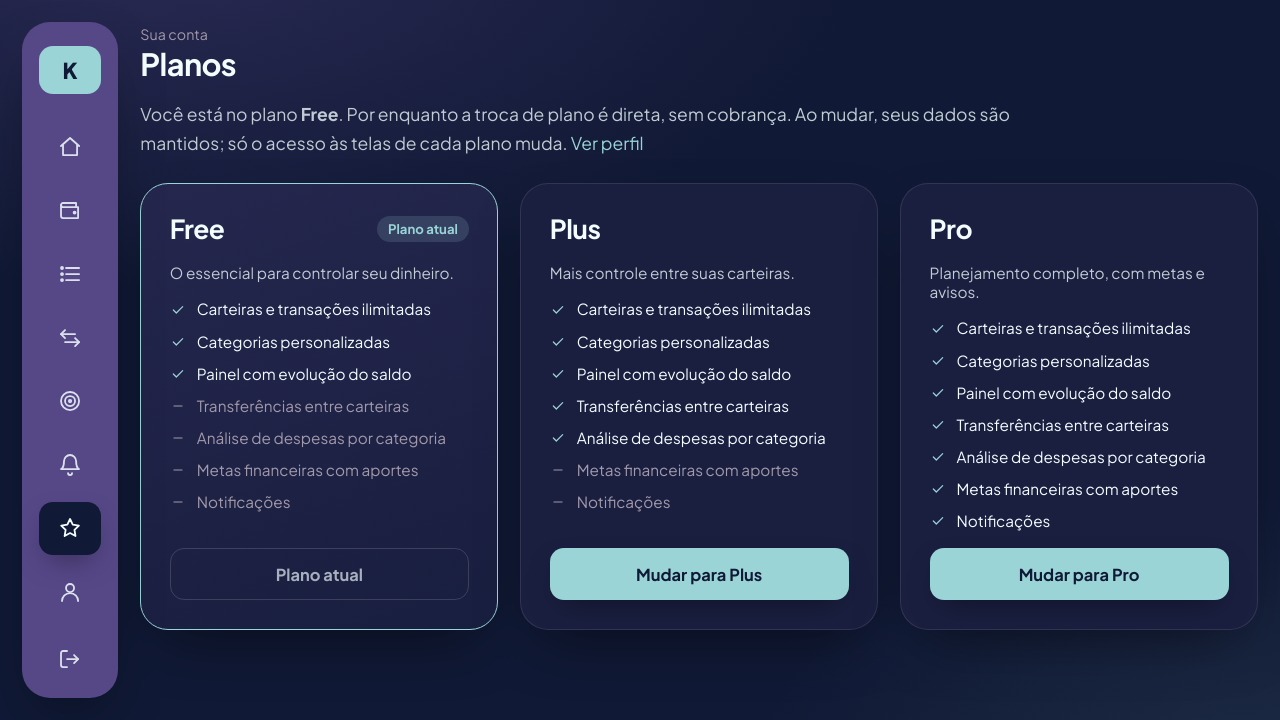
Test case: planos › erro da API ao trocar: avisa e mantém o plano
This screenshot has width=1280, height=720.
Click the button "Mudar para Plus" at (699, 574), box left=550, top=548, right=849, bottom=600
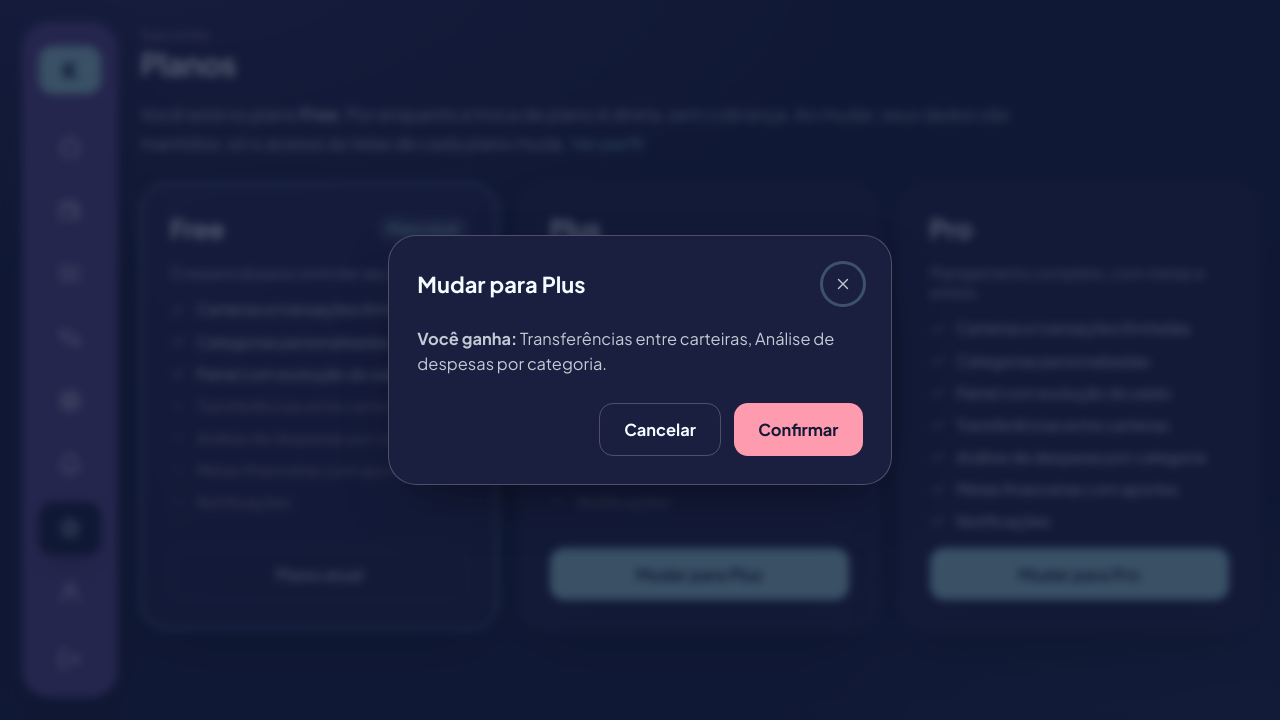
Click the button "Confirmar" at (798, 429), box left=734, top=403, right=863, bottom=456
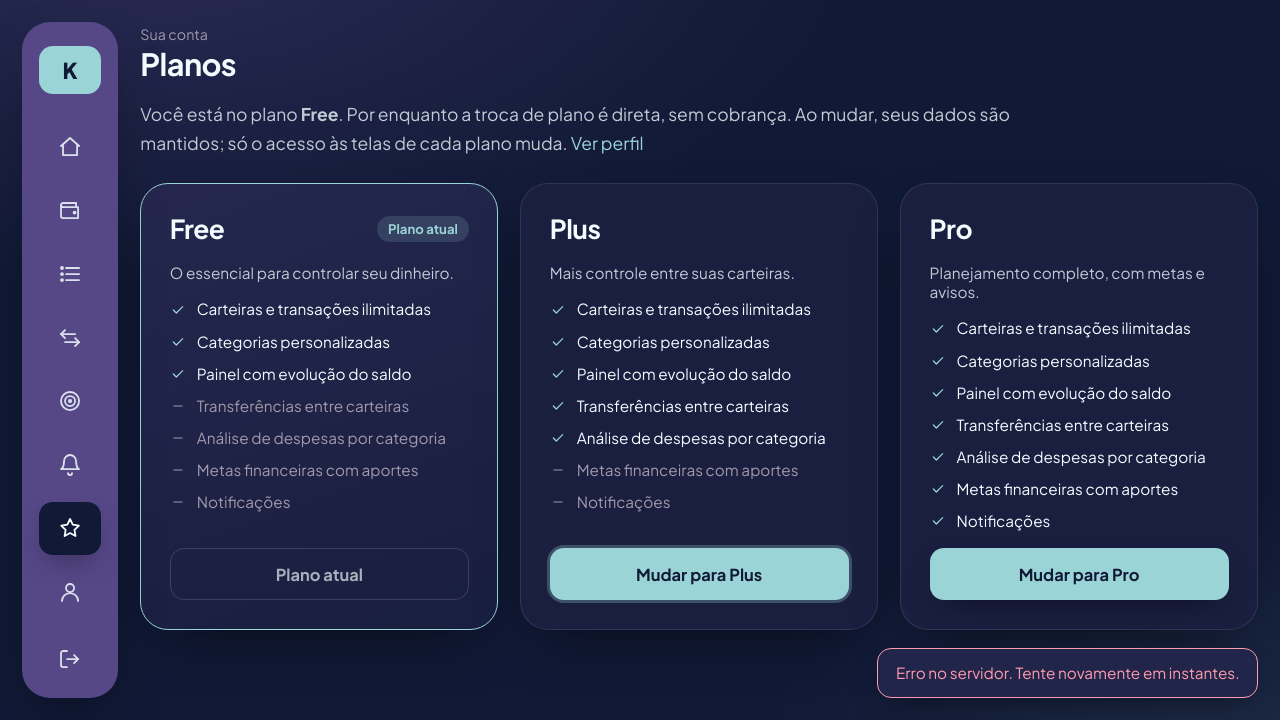
Expected: the message reads "Erro no servidor. Tente novamente em instantes.", left=896, top=664, right=1240, bottom=682
